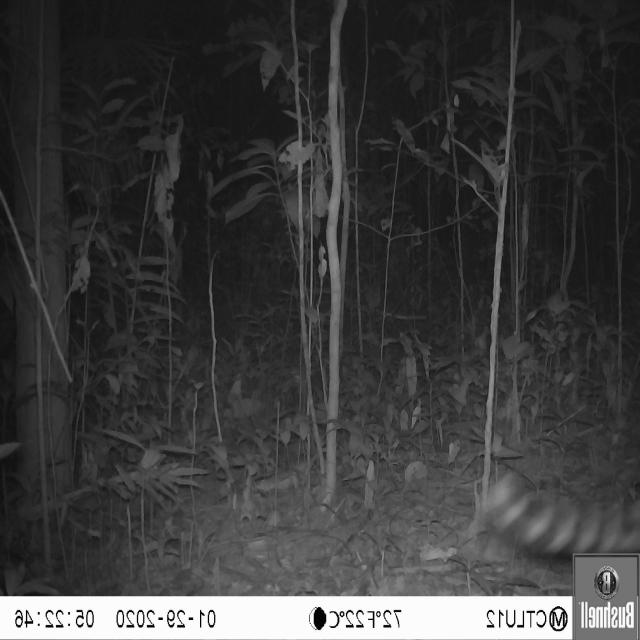Ocelote: (448, 456, 640, 552)
